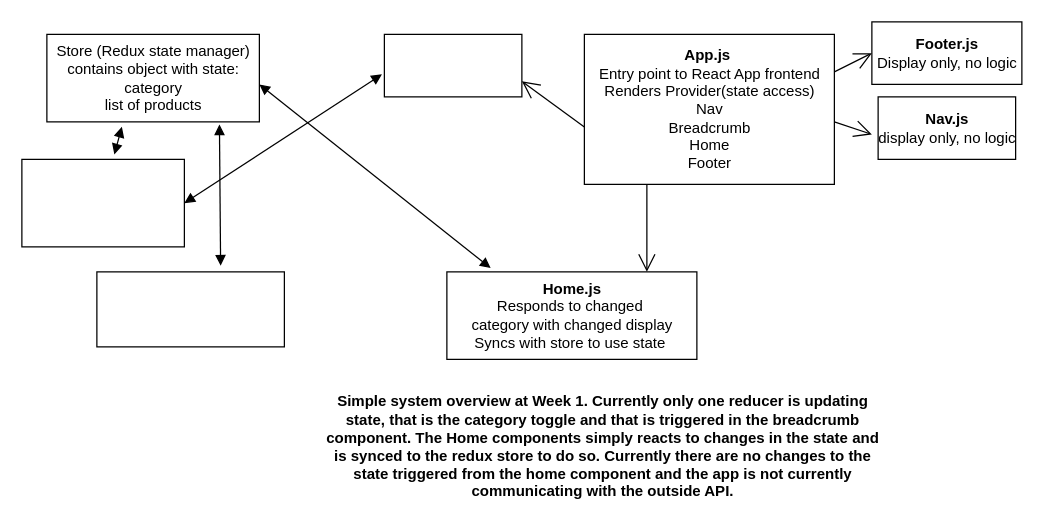
Some shapes in this 1044 by 523 pixel diagram are drawn without their labels. Each missing label, with the centre of its shape:
Breadcrumb.js Toggles Category: the point at 452,65
category.js redux reducers control logic for updating category: the point at 102,202
product.js redux reducers control logic for updating products: the point at 190,309
